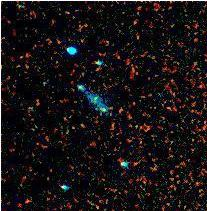star: (90, 90, 120, 120)
